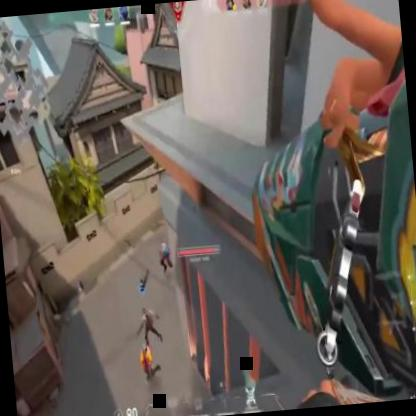enemy: (136, 341, 161, 384), (157, 237, 176, 274)
enemy_head: (159, 238, 164, 244)
